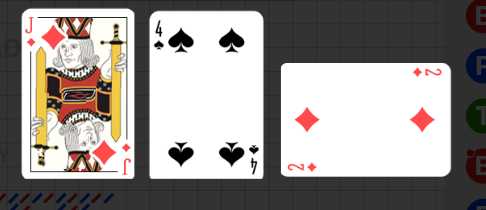2D: (411, 67, 443, 79)
4S: (153, 19, 166, 53), (247, 143, 260, 176)
